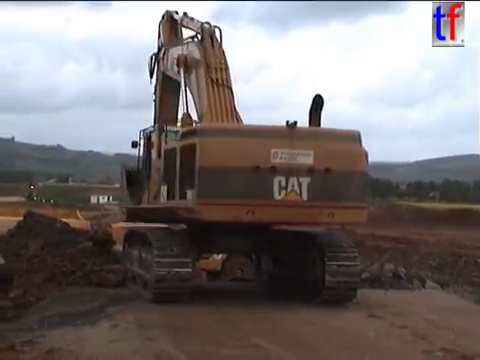excavator: (117, 7, 374, 308)
truck: (1, 215, 164, 332), (194, 211, 333, 284), (102, 218, 194, 294)
